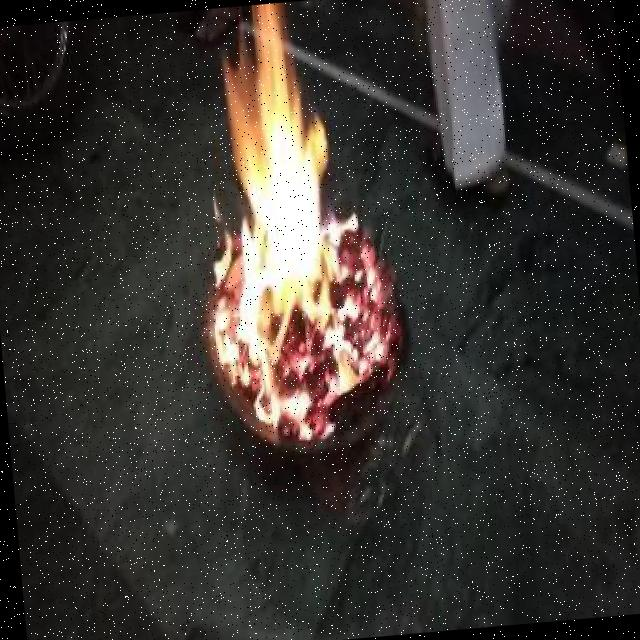fire: (172, 0, 370, 319)
